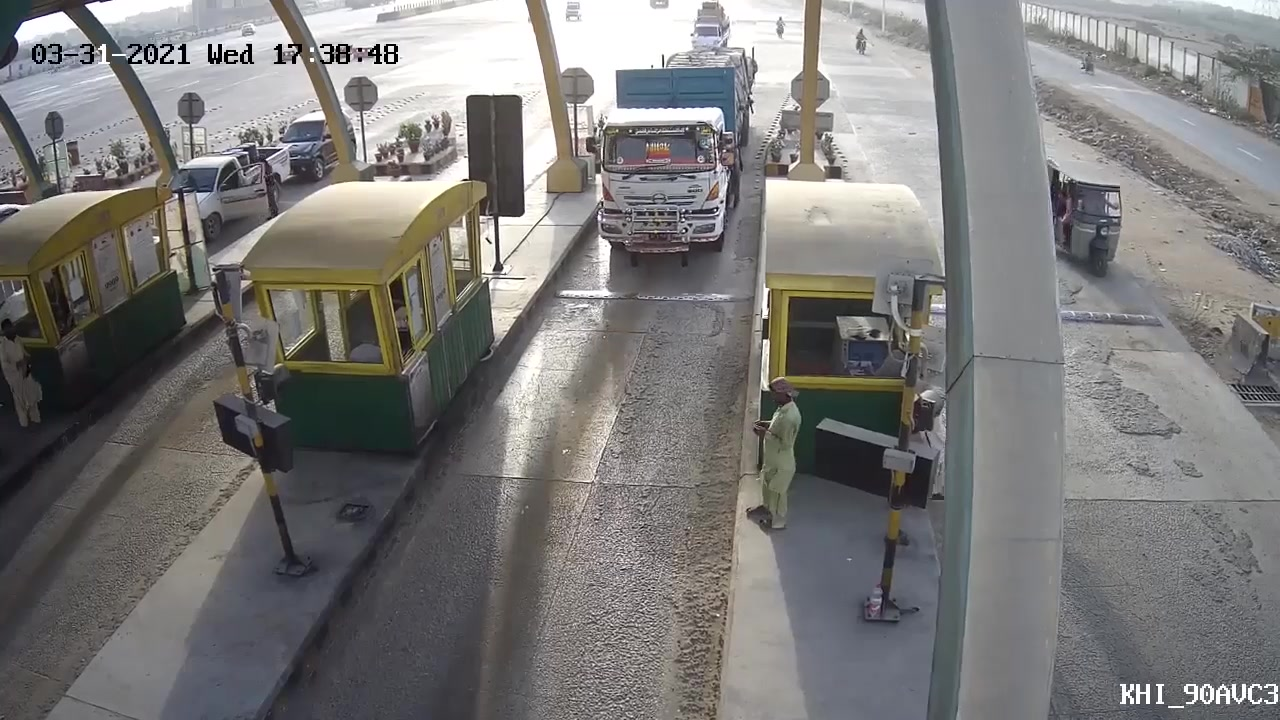F6: (590, 38, 762, 256)
